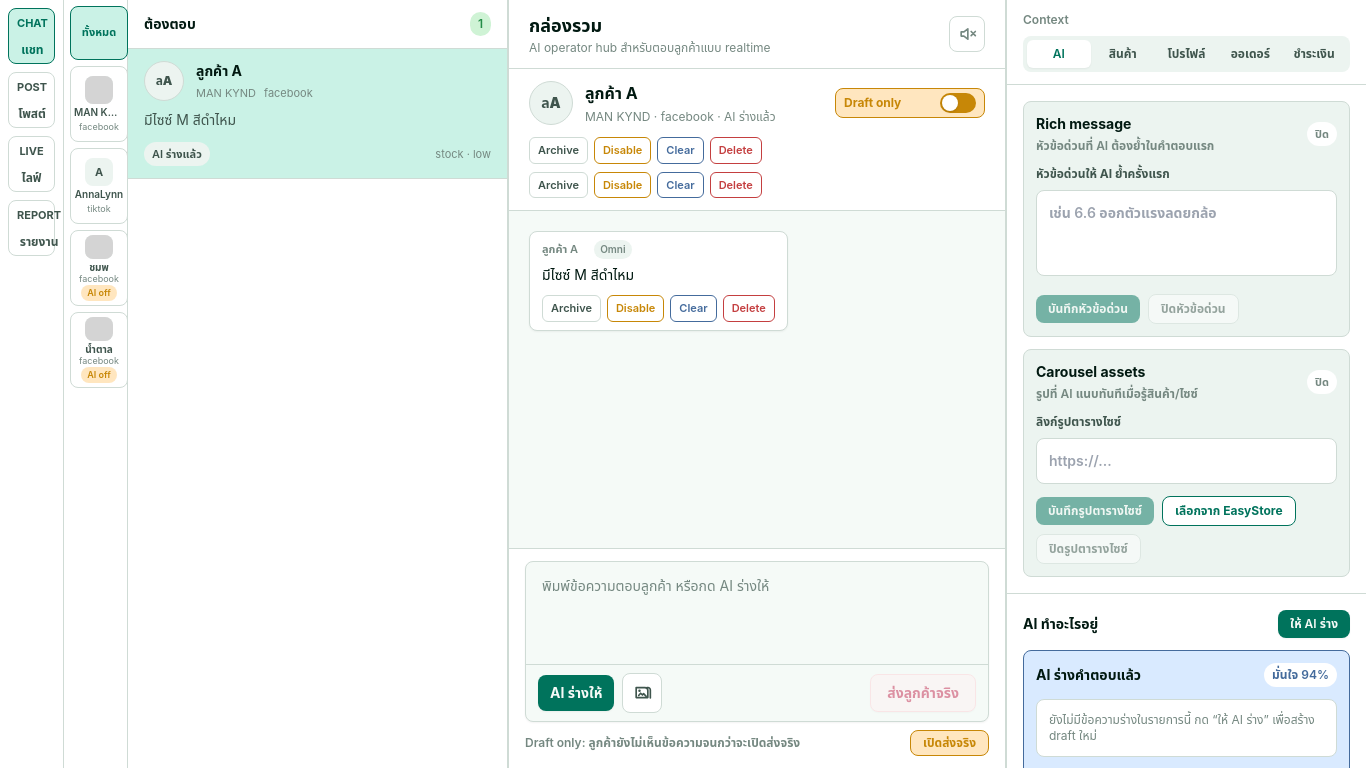
Test case: OmniWorkbench › shows only the active chat customer in the profile tab
The image size is (1366, 768).
Check: the heading "กล่องรวม" is shown, box [529, 15, 602, 36]
Click the button "โปรไฟล์": x=1186, y=54 [1155, 40, 1218, 68]
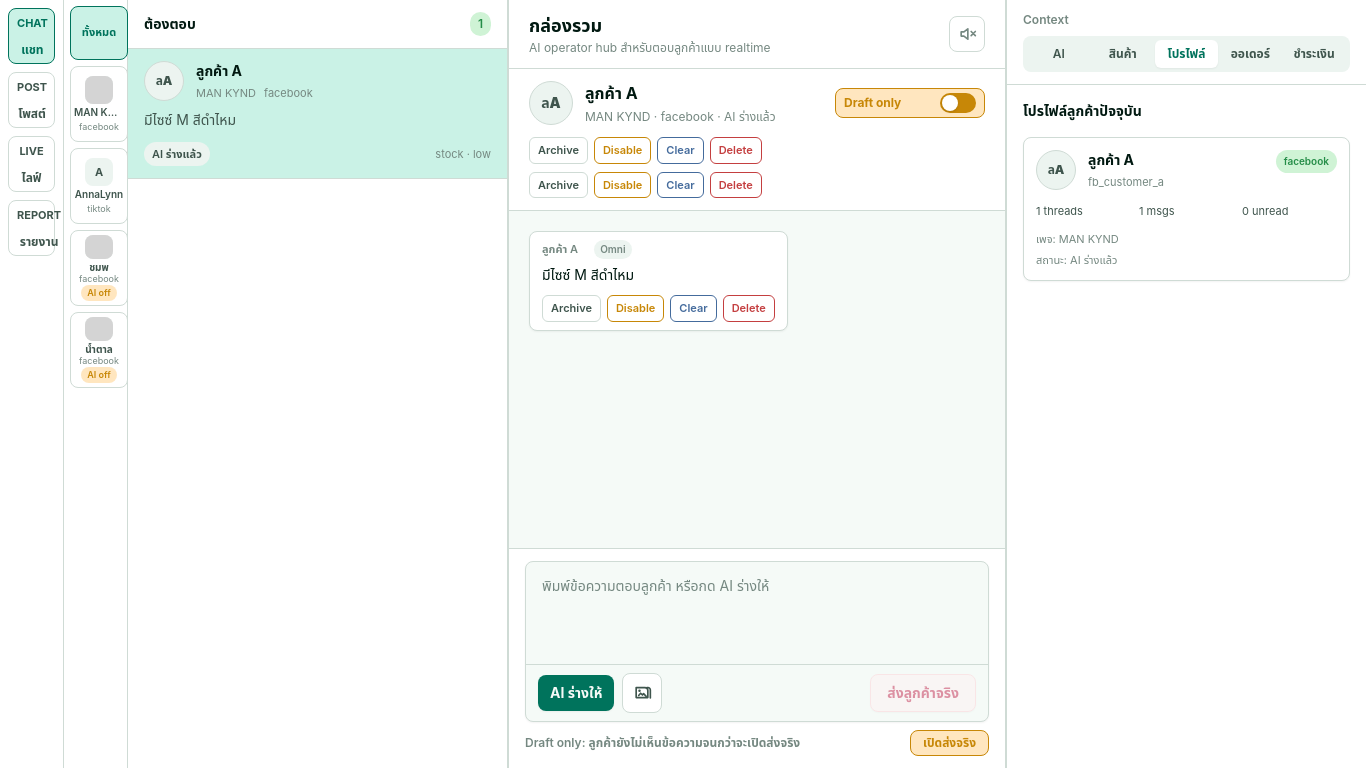
Check: the text "ลูกค้า A" below "ต้องตอบ" is shown, box [196, 62, 242, 79]
Check: the heading "โปรไฟล์ลูกค้าปัจจุบัน" is shown, box [1023, 102, 1142, 119]
Check: the text "fb_customer_a" is shown, box [1088, 174, 1164, 190]
